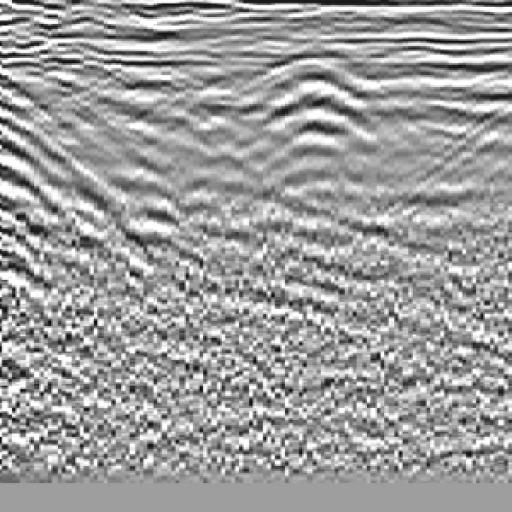metalic: (238, 42, 393, 267)
nonmetalic: (1, 64, 111, 313)
